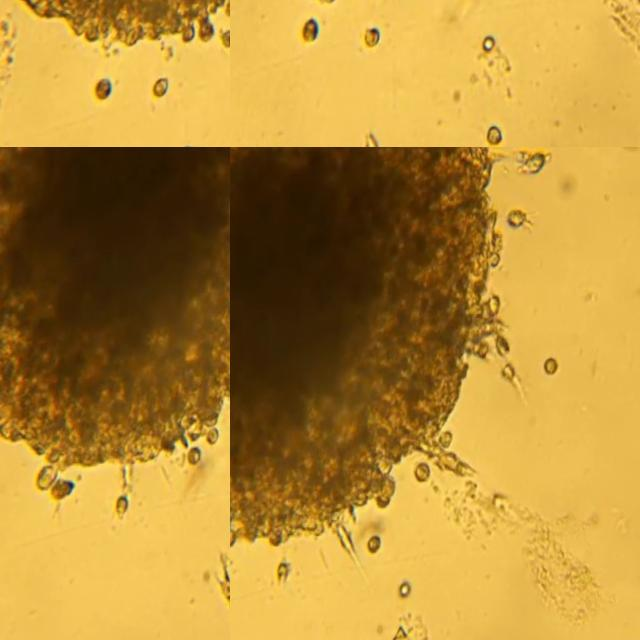cell: (513, 154, 545, 178), (53, 480, 80, 502), (505, 212, 528, 231), (305, 20, 323, 44), (415, 466, 434, 486), (187, 448, 205, 469), (155, 77, 172, 97), (220, 569, 230, 602), (370, 536, 386, 556), (119, 495, 133, 517), (491, 129, 507, 147), (368, 29, 383, 48), (500, 368, 516, 385), (99, 82, 114, 100), (545, 361, 559, 378), (484, 38, 498, 54), (206, 432, 221, 446), (402, 583, 415, 599), (369, 130, 381, 147), (280, 562, 291, 580), (397, 630, 410, 640), (224, 31, 230, 47)
tumor_mass: (230, 147, 513, 581)
